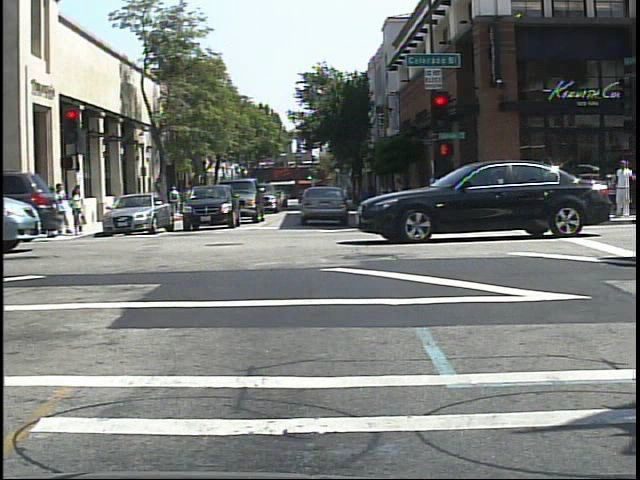person: (612, 156, 637, 220), (167, 181, 185, 221)
